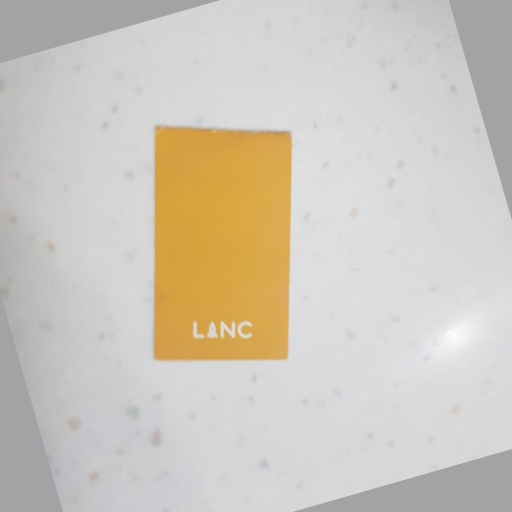Paper_2: (145, 120, 310, 370)
